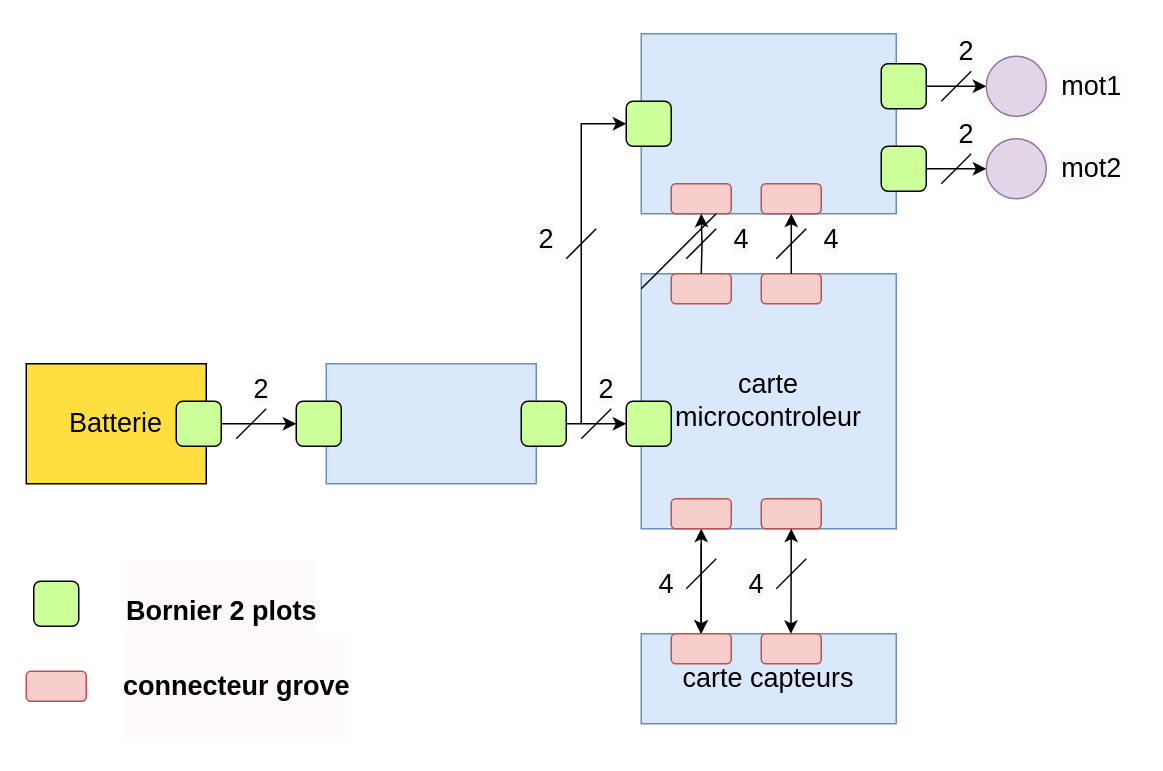
Image size: 1163x771. Some labels were removed from this diagram. Each missing label, with the box of its shape:
carte batterie: (325, 362, 536, 484)
carte hacheur: (640, 32, 896, 214)
